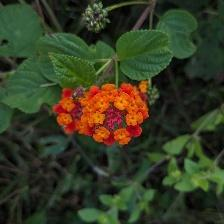common lanthana: (55, 78, 153, 143)
